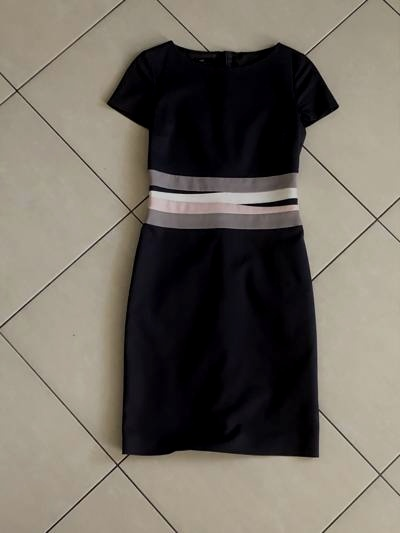Dress: (76, 30, 351, 482)
